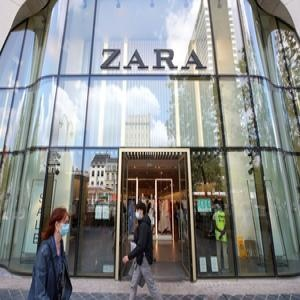zara: (158, 24, 256, 71)
